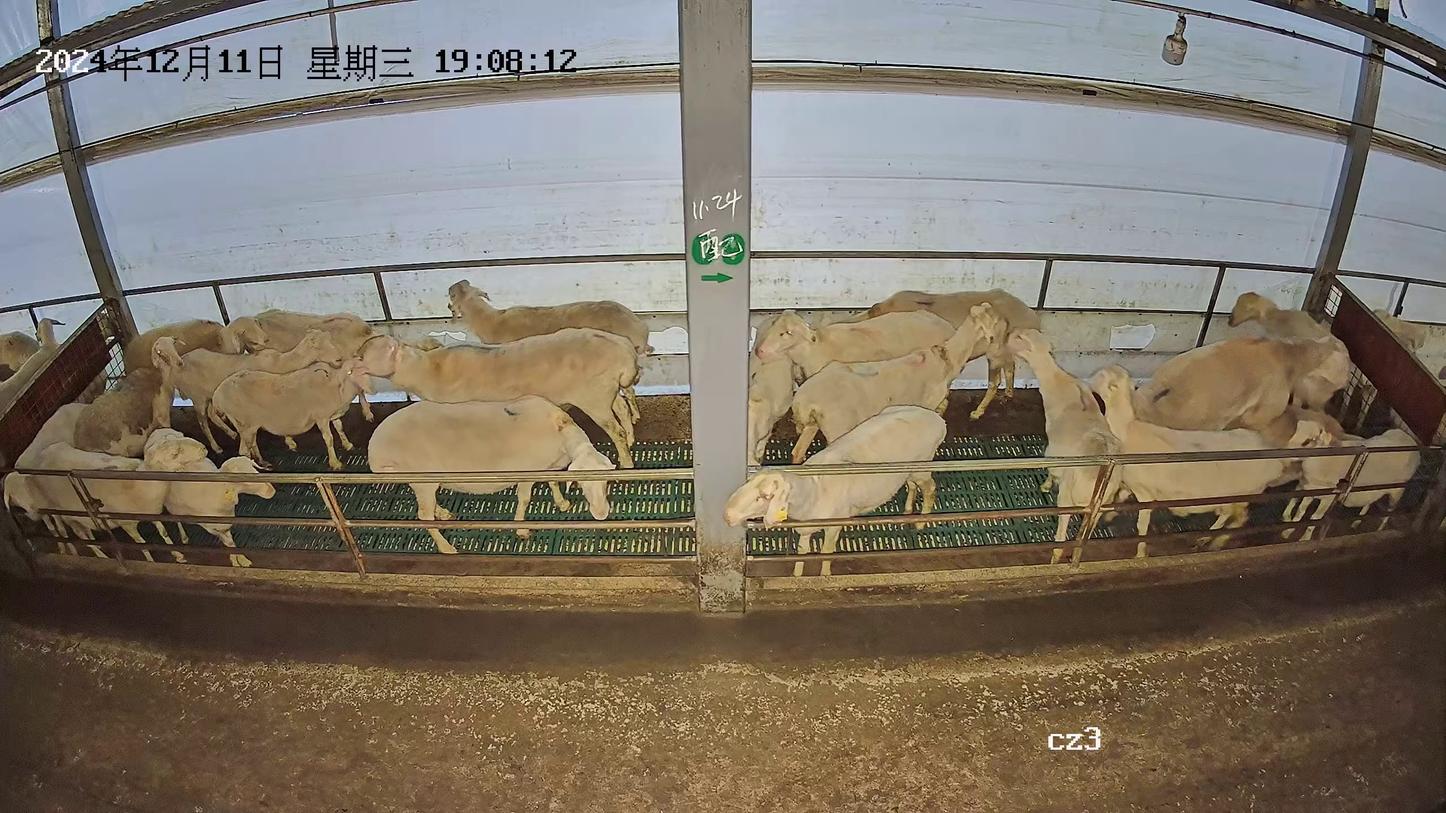Smounting: (1133, 331, 1374, 495)
mounted: (1219, 401, 1370, 491)
